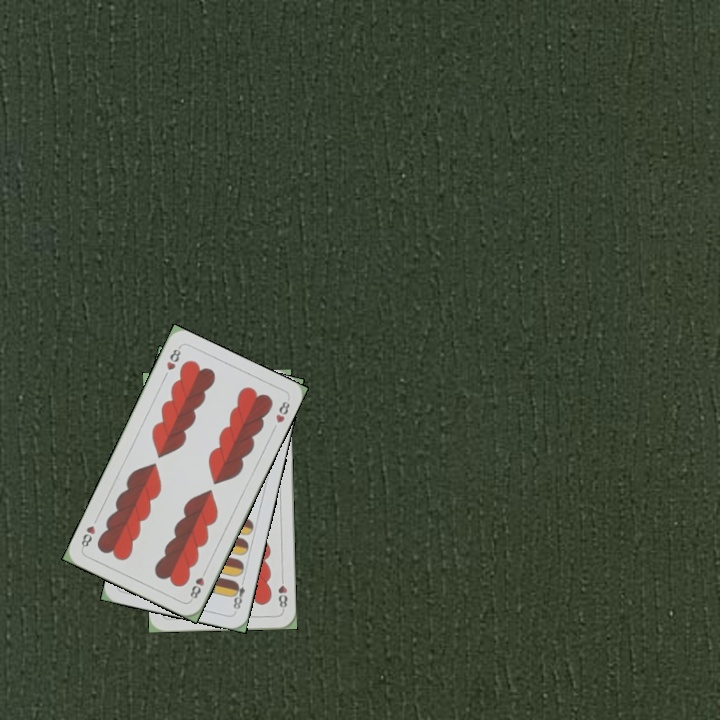E8: (228, 574, 248, 614)
H8: (186, 565, 210, 603), (274, 573, 290, 613), (162, 343, 183, 373)
